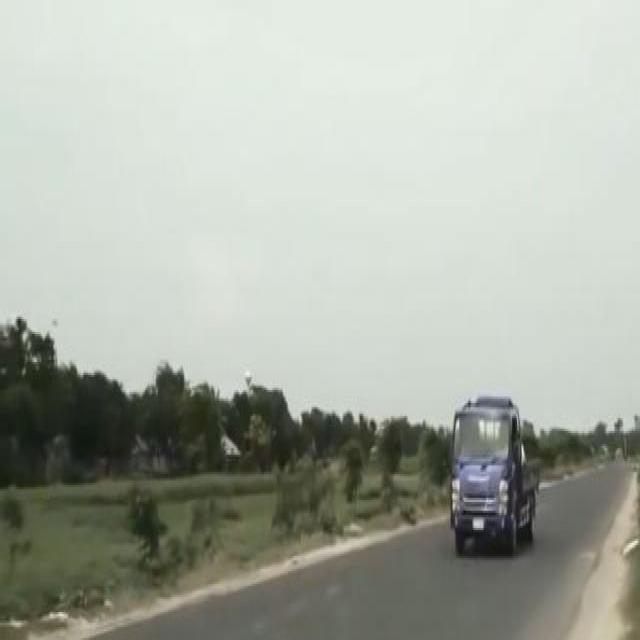vehicle: (451, 396, 541, 556)
